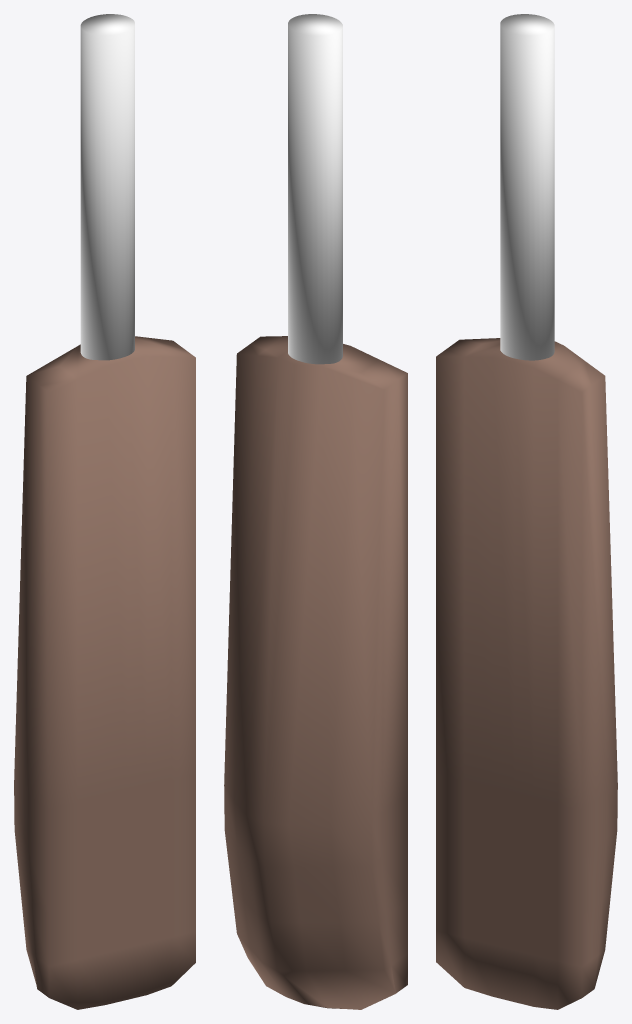
The model's file is bat.glb.
The picture shows the model from 3 angles, left to right: view 1: azimuth 30°, elevation 25°; view 2: azimuth 150°, elevation 25°; view 3: azimuth 330°, elevation 25°; orthographic projection.
Parts seen in each view (by area): view 1: Cube.001; view 2: Cube.001; view 3: Cube.001.
Boxes of the visible parts, box(x1,y1,x2,y2) form: Cube.001: box(14, 14, 195, 1009); Cube.001: box(224, 14, 407, 1009); Cube.001: box(436, 14, 617, 1009).
Bounding box in the file's own units: 0.4905 × 3.08 × 0.3698.
